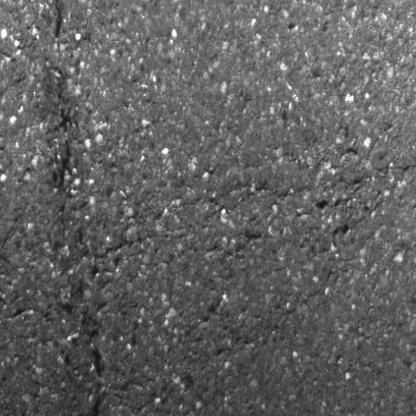Cracks: (42, 0, 82, 200), (73, 287, 111, 416), (0, 302, 39, 338)
